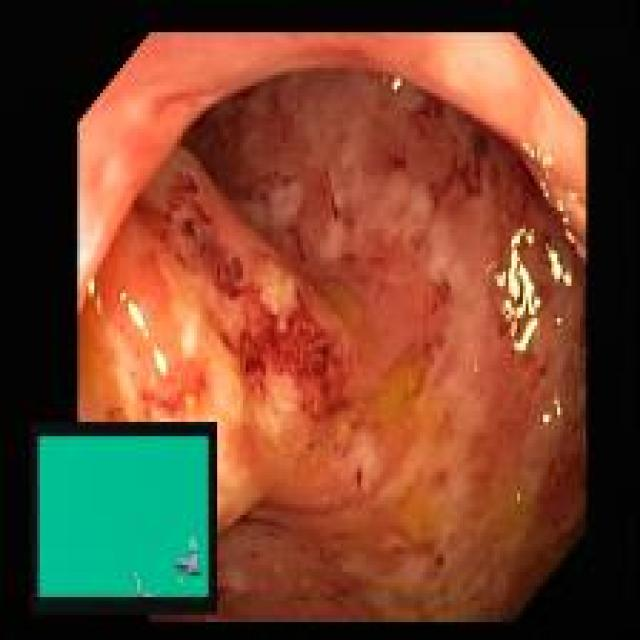ulcerative-colitis: (80, 69, 585, 620)
